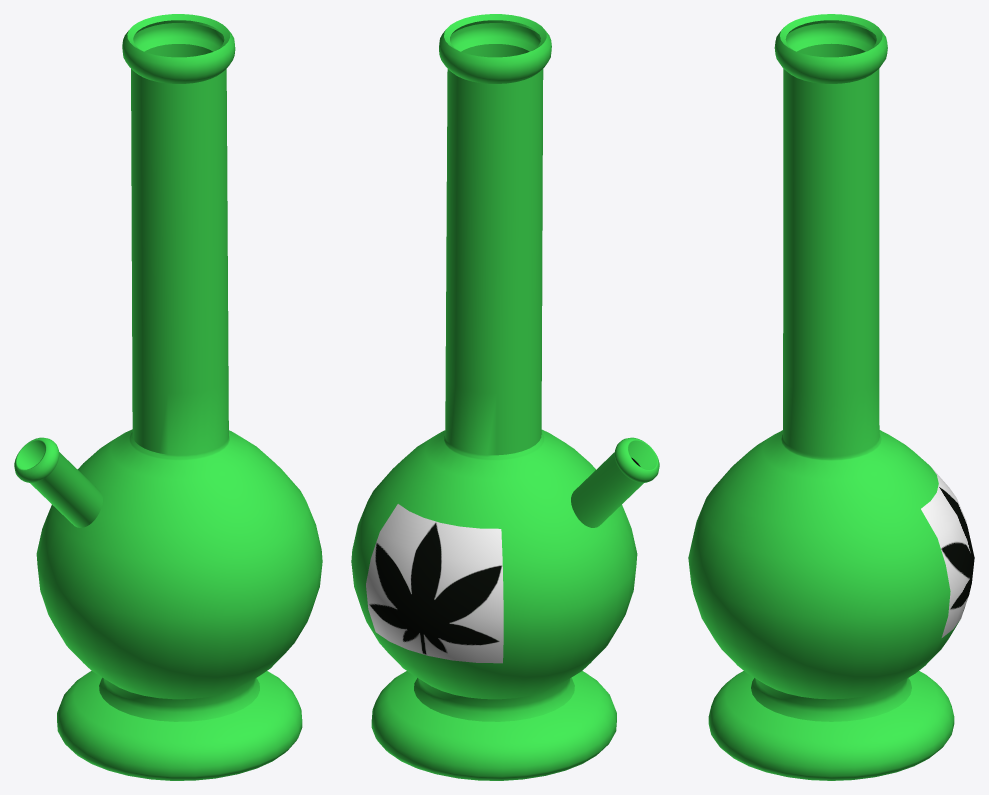
The model's file is Bong.fbx.
The picture shows the model from 3 angles, left to right: view 1: azimuth 30°, elevation 25°; view 2: azimuth 150°, elevation 25°; view 3: azimuth 270°, elevation 25°; orthographic projection.
Parts seen in each view (by area): view 1: Bong, Pipe; view 2: Bong, Pipe; view 3: Bong.
Boxes of the visible parts, x1,y1,x2,y2 form: Bong: [36, 14, 322, 780]; Pipe: [14, 437, 102, 527]; Bong: [351, 14, 637, 780]; Pipe: [571, 437, 659, 527]; Bong: [688, 14, 974, 780].
Bounding box in the file's own units: 230 × 540 × 200.
